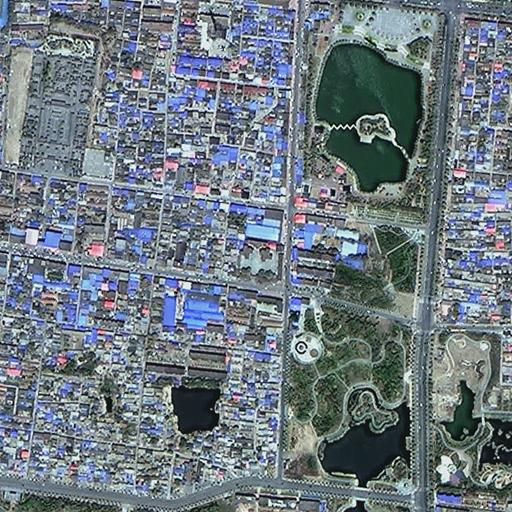school: (228, 239, 279, 285)
